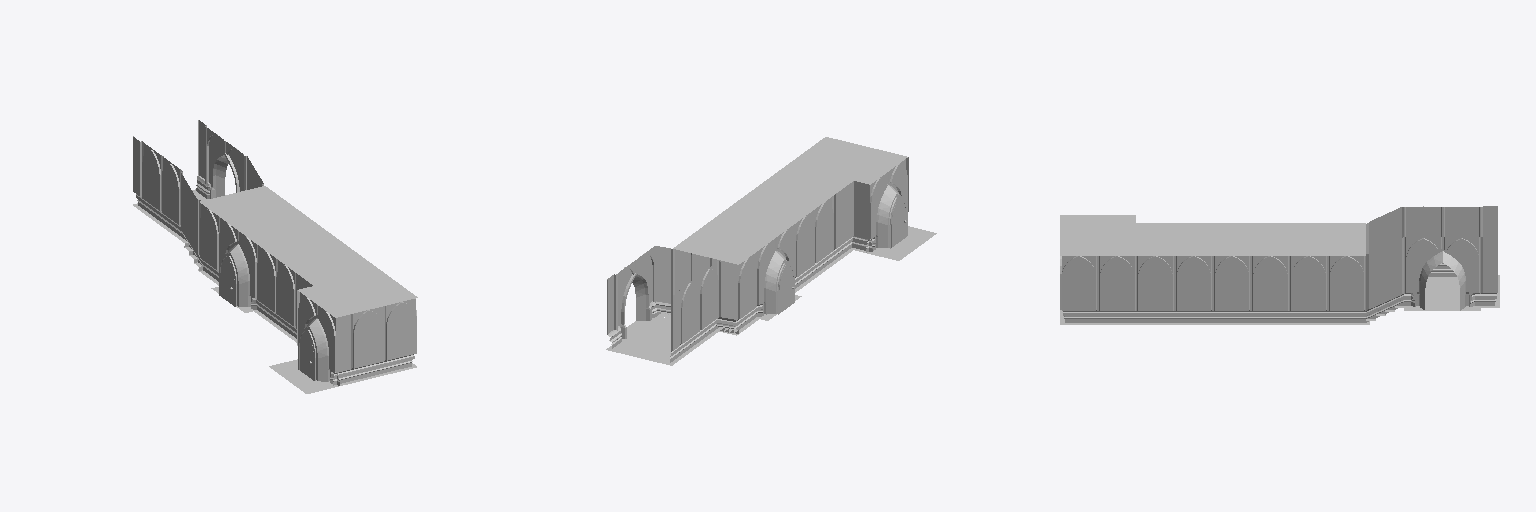
File: FilchCorridor.obj
The picture shows the model from 3 angles: view 1: azimuth 30°, elevation 25°; view 2: azimuth 150°, elevation 25°; view 3: azimuth 270°, elevation 25°; orthographic projection.
Visible parts, largest first — view 1: Mesh_0110, Mesh_0131, Mesh_0079, Mesh_0109, Mesh_0118, Mesh_0070, Mesh_0085, Mesh_0108, Mesh_0121, Mesh_0130, Mesh_0139, Mesh_0128 (+1 smaller); view 2: Mesh_0110, Mesh_0131, Mesh_0079, Mesh_0065, Mesh_0070, Mesh_0118, Mesh_0085, Mesh_0130, Mesh_0127, Mesh_0128, Mesh_0068, Mesh_0073 (+3 smaller); view 3: Mesh_0127, Mesh_0110, Mesh_0070, Mesh_0126, Mesh_0079, Mesh_0124, Mesh_0065, Mesh_0125, Mesh_0071, Mesh_0068, Mesh_0074, Mesh_0085 (+1 smaller).
Boxes of the visible parts, x1=… form: Mesh_0110: x1=200, y1=186, x2=417, y2=317; Mesh_0131: x1=200, y1=209, x2=312, y2=328; Mesh_0079: x1=133, y1=137, x2=197, y2=254; Mesh_0109: x1=354, y1=303, x2=416, y2=368; Mesh_0118: x1=297, y1=290, x2=349, y2=376; Mesh_0070: x1=199, y1=120, x2=263, y2=191; Mesh_0085: x1=198, y1=269, x2=416, y2=393; Mesh_0108: x1=350, y1=354, x2=414, y2=380; Mesh_0121: x1=298, y1=327, x2=329, y2=381; Mesh_0130: x1=201, y1=260, x2=296, y2=338; Mesh_0139: x1=219, y1=253, x2=250, y2=306; Mesh_0128: x1=207, y1=209, x2=295, y2=325; Mesh_0110: x1=673, y1=137, x2=907, y2=264; Mesh_0131: x1=740, y1=181, x2=853, y2=318; Mesh_0079: x1=673, y1=262, x2=737, y2=350; Mesh_0065: x1=606, y1=316, x2=718, y2=365; Mesh_0070: x1=607, y1=246, x2=670, y2=333; Mesh_0118: x1=854, y1=157, x2=908, y2=242; Mesh_0085: x1=723, y1=226, x2=936, y2=335; Mesh_0130: x1=735, y1=237, x2=852, y2=329; Mesh_0127: x1=675, y1=250, x2=728, y2=293; Mesh_0128: x1=736, y1=194, x2=835, y2=320; Mesh_0068: x1=607, y1=246, x2=674, y2=334; Mesh_0073: x1=621, y1=286, x2=651, y2=338; Mesh_0127: x1=1062, y1=256, x2=1363, y2=310; Mesh_0110: x1=1060, y1=215, x2=1365, y2=255; Mesh_0070: x1=1369, y1=238, x2=1497, y2=308; Mesh_0126: x1=1063, y1=310, x2=1365, y2=322; Mesh_0079: x1=1369, y1=206, x2=1497, y2=253; Mesh_0124: x1=1062, y1=256, x2=1365, y2=310; Mesh_0065: x1=1404, y1=275, x2=1499, y2=310; Mesh_0125: x1=1062, y1=256, x2=1363, y2=273; Mesh_0071: x1=1366, y1=293, x2=1496, y2=322; Mesh_0068: x1=1366, y1=237, x2=1482, y2=310; Mesh_0074: x1=1419, y1=249, x2=1466, y2=280; Mesh_0085: x1=1060, y1=310, x2=1369, y2=324.
Size of the model in its own units: 71617 by 50000 by 230000.